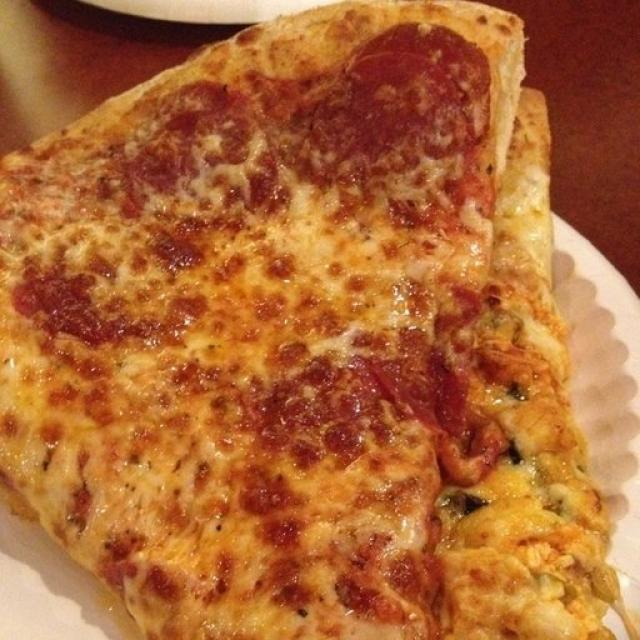Pizza: (0, 0, 620, 640)
